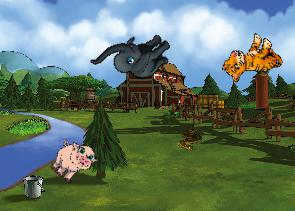elephant: (89, 12, 178, 100)
pig: (45, 133, 100, 189)
tiger: (218, 26, 287, 96)
